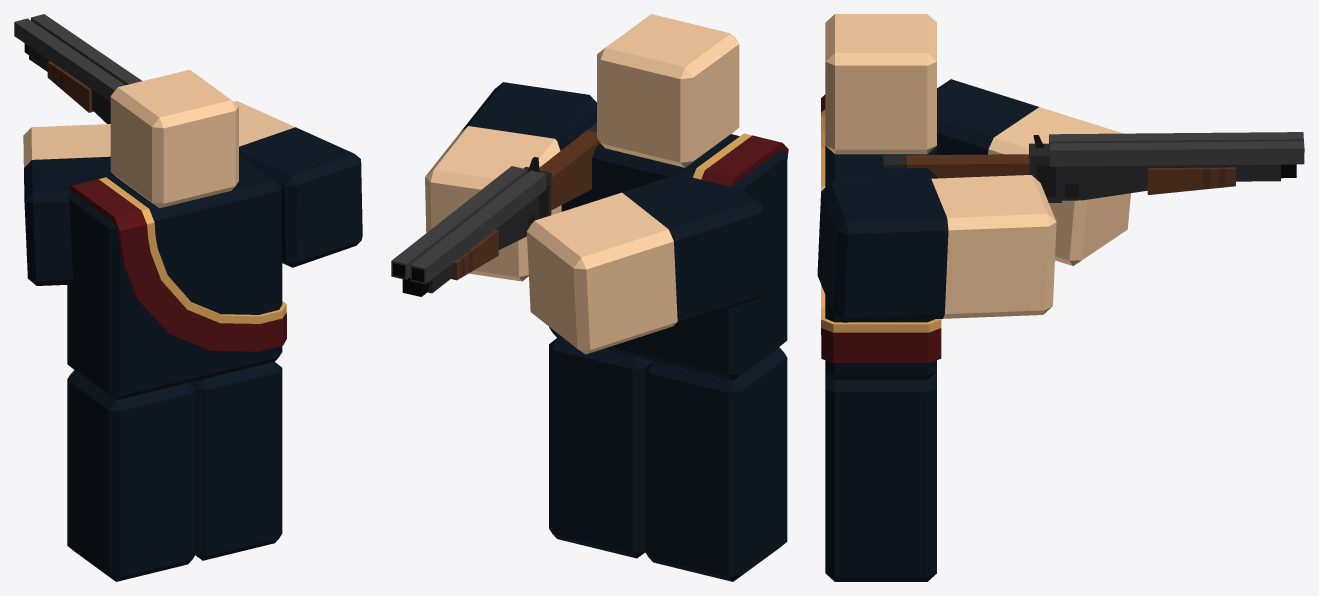
3 views of the same model, side by side, from view 1: azimuth 30°, elevation 25°; view 2: azimuth 150°, elevation 25°; view 3: azimuth 270°, elevation 25° (orthographic). The views are drawn at different scales.
Visible parts, largest first — view 1: Terrorist, Terrorist.002, Terrorist.001, Terrorist.003; view 2: Terrorist.002, Terrorist, Terrorist.003, Terrorist.001; view 3: Terrorist.001, Terrorist, Terrorist.002, Terrorist.003.
Part boxes in pixels (x1,y1,x2,y2): Terrorist: (67,69,286,400); Terrorist.002: (67,361,282,581); Terrorist.001: (14,14,362,267); Terrorist.003: (23,124,117,285); Terrorist.002: (549,338,787,581); Terrorist: (549,14,788,380); Terrorist.003: (527,172,768,354); Terrorist.001: (391,82,599,296); Terrorist.001: (817,132,1304,322); Terrorist: (821,14,941,379); Terrorist.002: (825,371,936,581); Terrorist.003: (937,79,1130,265).
Bounding box in the file's own units: 3.33 × 5 × 4.37.
